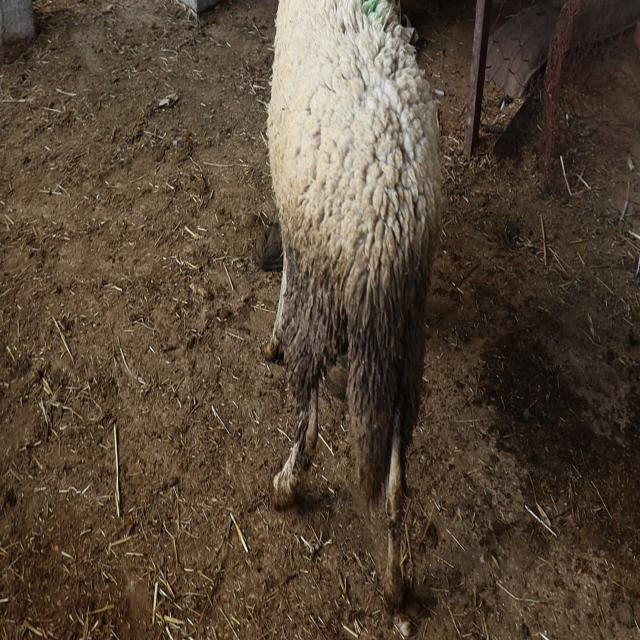Score_3: (265, 0, 442, 606)
